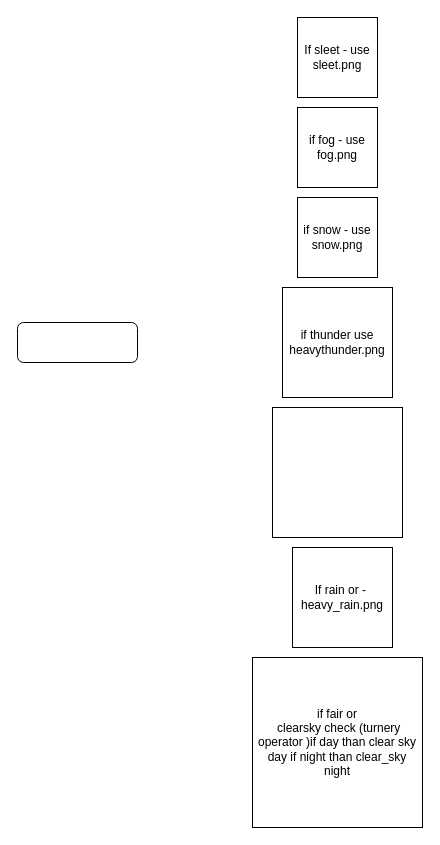
The diagram is 440 pixels wide and 845 high, and some of its shapes have lost their labels. The shapes that lost their labels are listed below. From the top down, each one's centre as x and y in pixels, then its label:
At (x=77, y=342): "Weather icons".
At (x=337, y=472): "if snow and thunder use heavysnowthudner.png".
